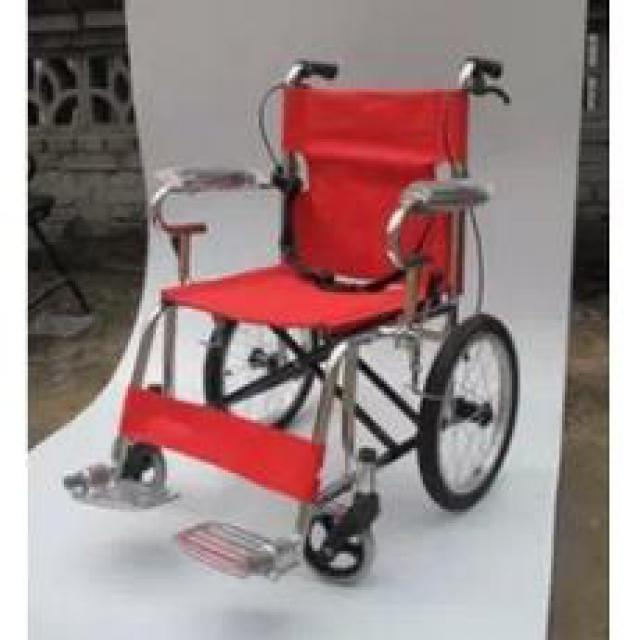wheelchair: (62, 53, 520, 576)
